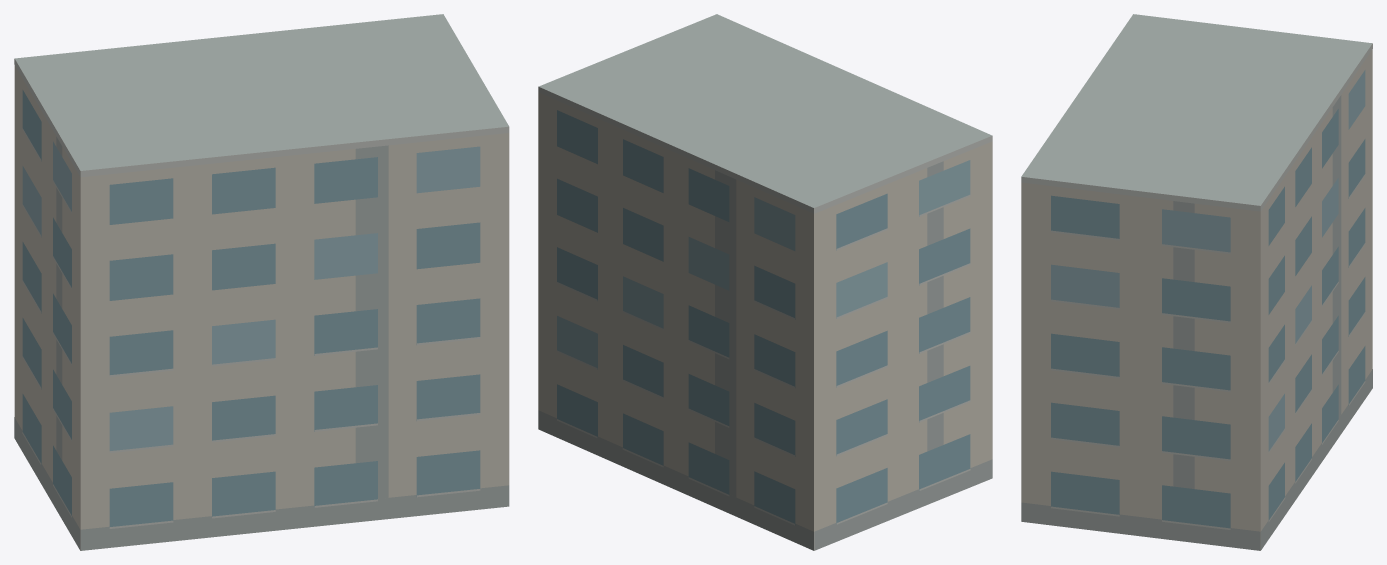
File: survey-upis-32870999.glb
3 renders of one model, left to right at view 1: azimuth 30°, elevation 25°; view 2: azimuth 150°, elevation 25°; view 3: azimuth 270°, elevation 25°, orthographic. The views are drawn at different scales.
Parts seen in each view (by area): view 1: survey-upis-32870999.tmp; view 2: survey-upis-32870999.tmp; view 3: survey-upis-32870999.tmp.
Boxes of the visible parts, left/top/right/bottom form: survey-upis-32870999.tmp: left=14, top=14, right=509, bottom=550; survey-upis-32870999.tmp: left=538, top=14, right=992, bottom=550; survey-upis-32870999.tmp: left=1021, top=14, right=1372, bottom=550.
Size of the model in its own units: 17.55 by 14.7 by 13.59.
